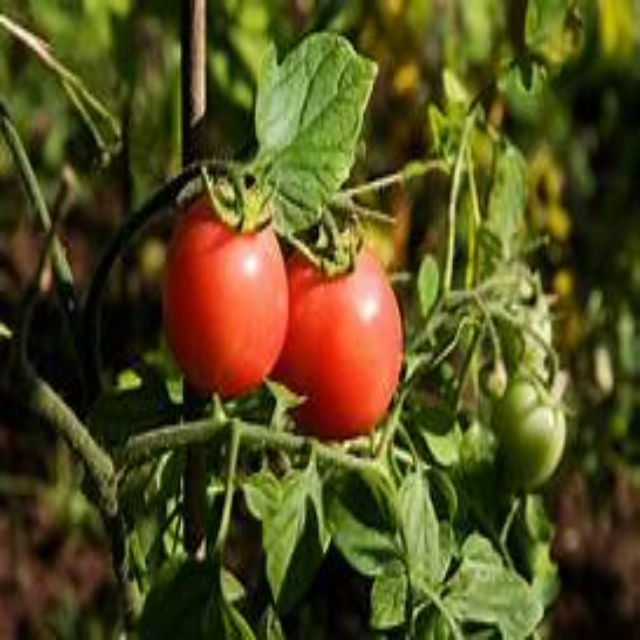tomato: (163, 188, 287, 399), (276, 246, 402, 435), (485, 362, 578, 490)
